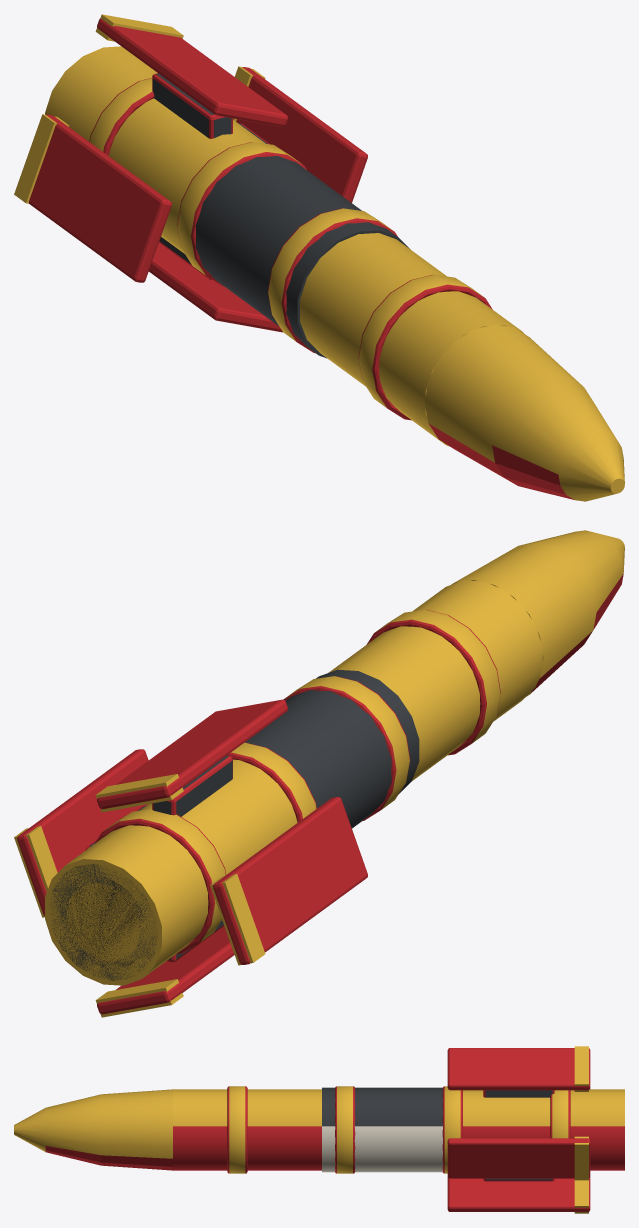
File: dragon_rocket.fbx
3 renders of one model, top to bottom at view 1: azimuth 30°, elevation 25°; view 2: azimuth 150°, elevation 25°; view 3: azimuth 270°, elevation 25°, orthographic. The views are drawn at different scales.
Visible parts, largest first — view 1: Mesh_DragonRocket_Firework; view 2: Mesh_DragonRocket_Firework; view 3: Mesh_DragonRocket_Firework.
Part boxes in pixels (x1,y1,x2,y2): Mesh_DragonRocket_Firework: [14, 14, 624, 501]; Mesh_DragonRocket_Firework: [14, 530, 624, 1017]; Mesh_DragonRocket_Firework: [14, 1046, 624, 1213].
Bounding box in the file's own units: 8.06 × 8.06 × 30.
